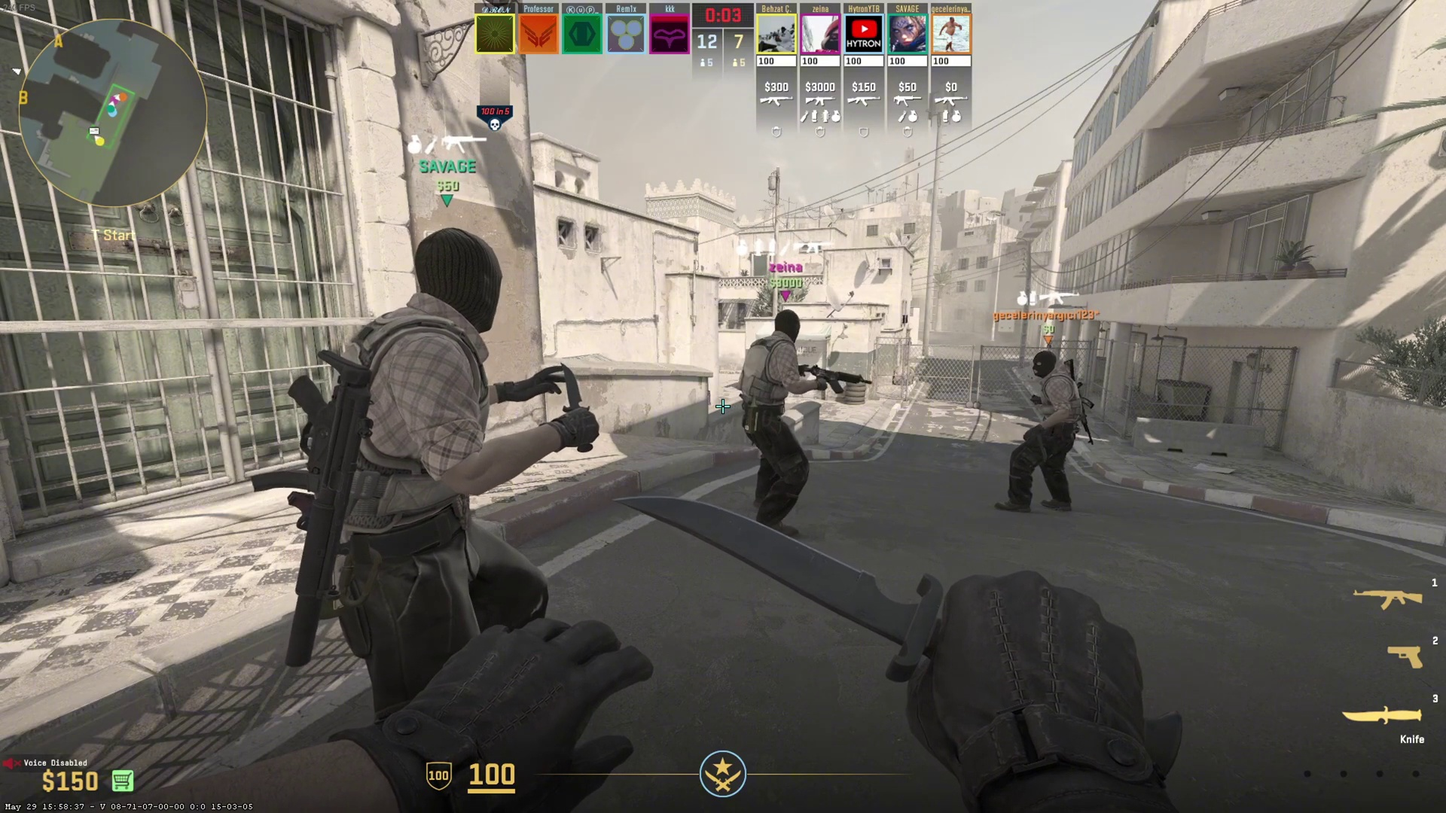Terrorist: (334, 228, 545, 727), (742, 309, 806, 531), (996, 352, 1081, 513)
